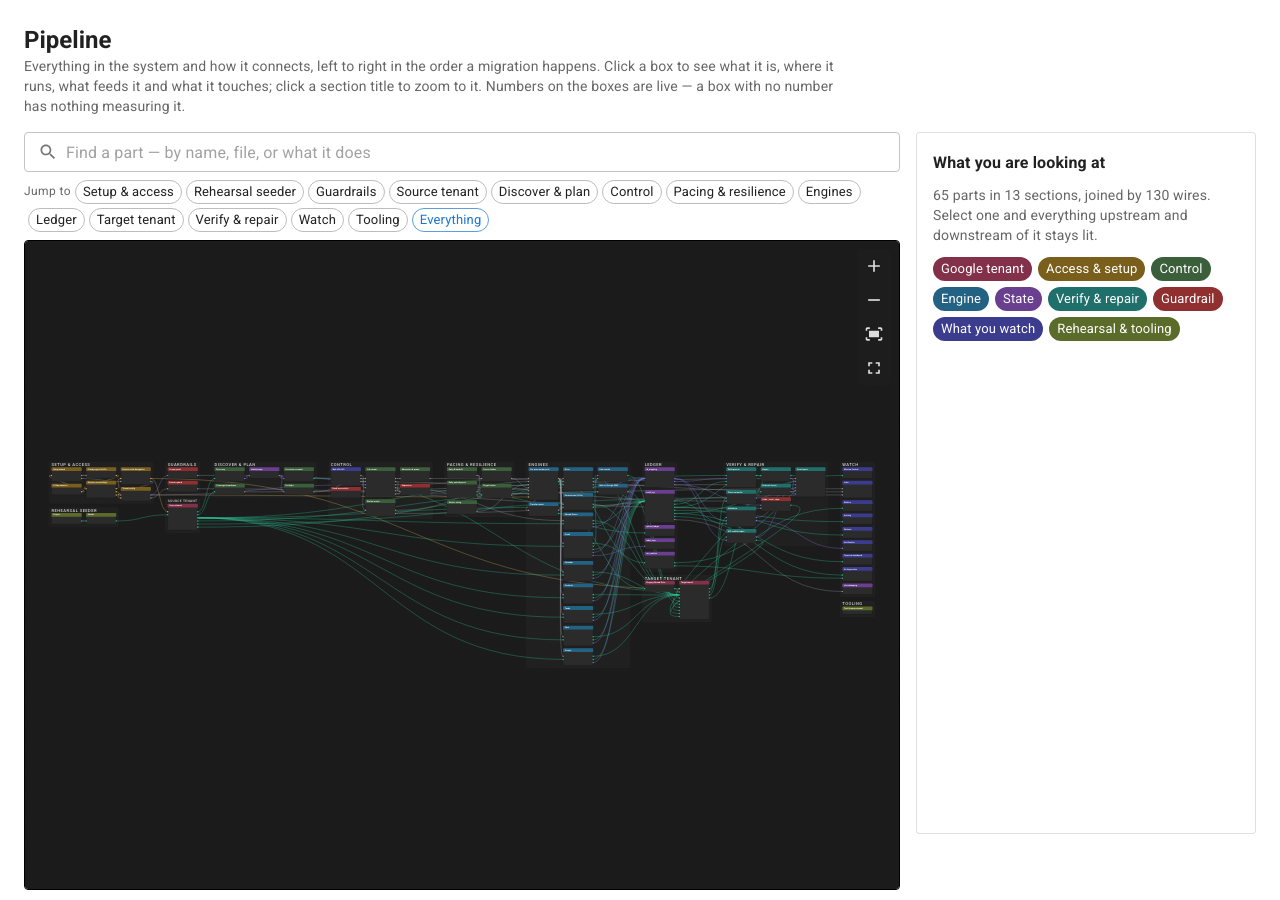
Test: Pipeline › finding a part › lights nothing up for a search that finds nothing, rather than hiding everything silently
Type "zzzz-no-such-thing" into the field with test id "pipeline-search" at {"x": 483, "y": 152}, box [66,132,900,172]
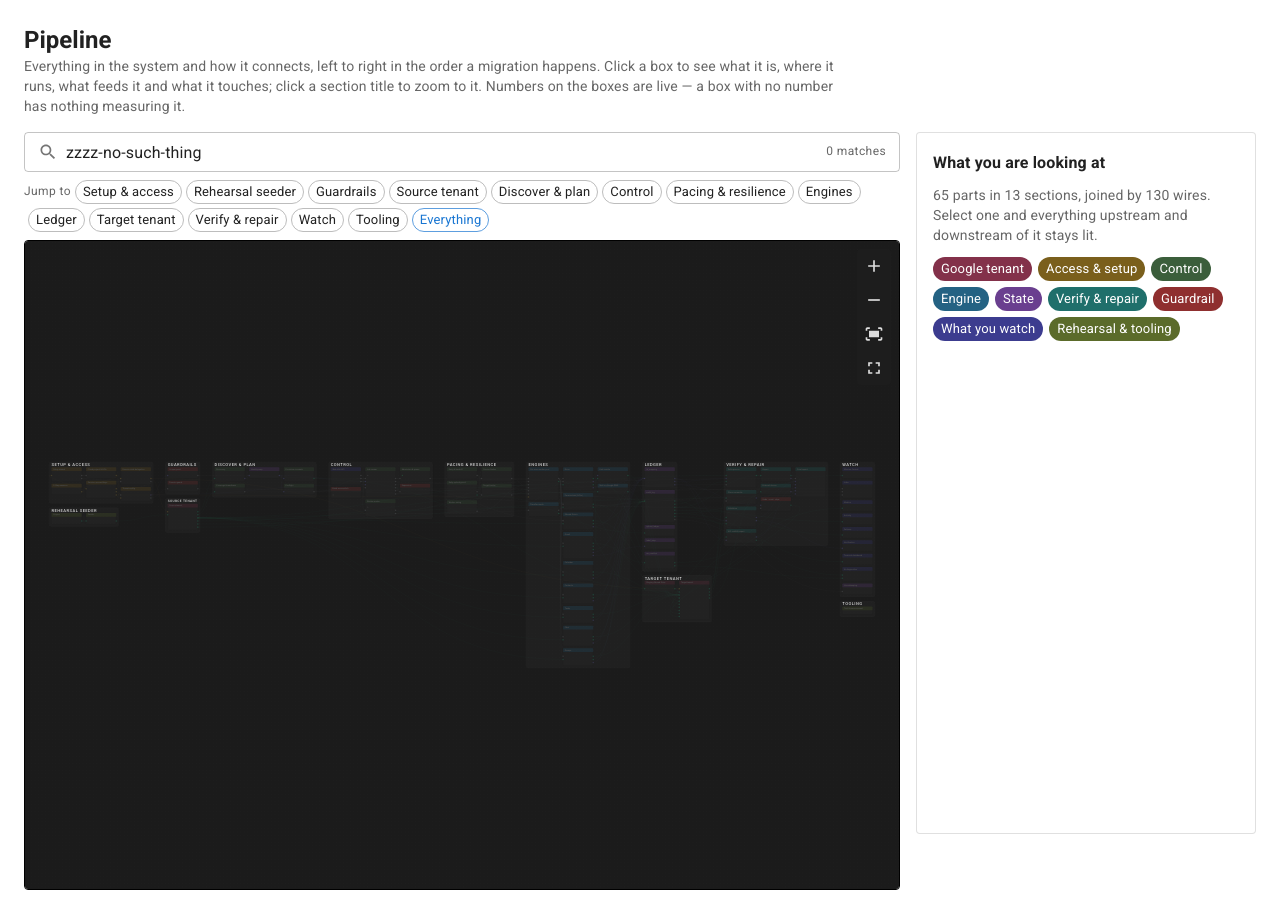
Expected: the text with test id "pipeline-matches" reads "0 matches", [826,142,886,162]
